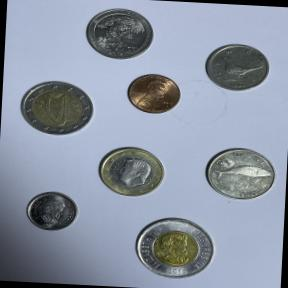1 Euro-B: (92, 140, 174, 204)
2 Euro-B: (11, 76, 100, 146)
Canada-10cent-B: (22, 186, 82, 235)
Canada-2Dollar-B: (128, 208, 225, 286)
Croatia-2Kune-B: (197, 140, 284, 208)
US-1cent-B: (122, 70, 188, 122)
US-25cent-B: (79, 4, 161, 68)
